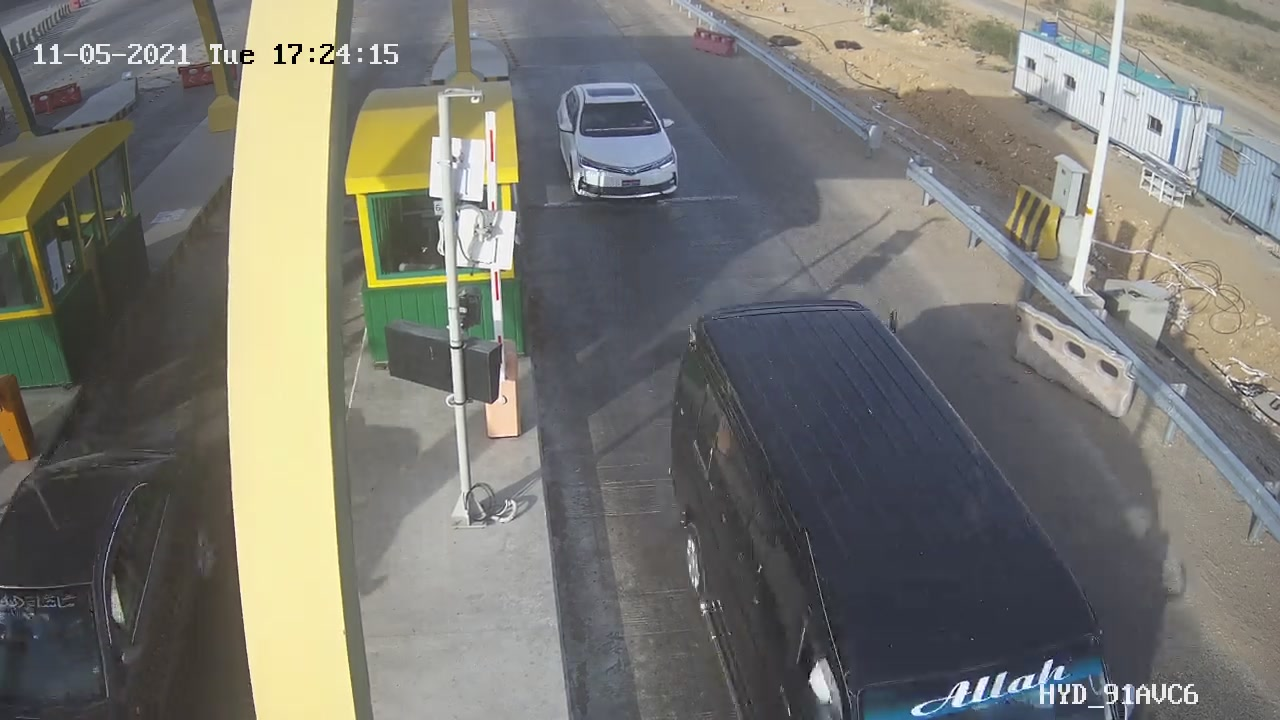F1: (537, 66, 700, 229)
